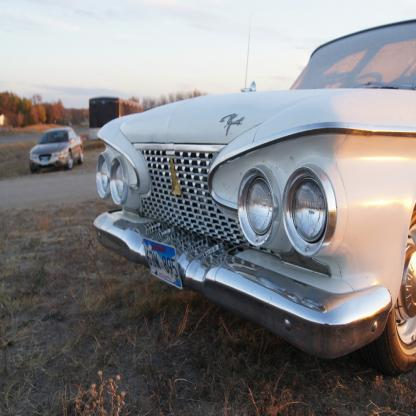Car: (94, 18, 416, 382), (30, 129, 85, 171)
